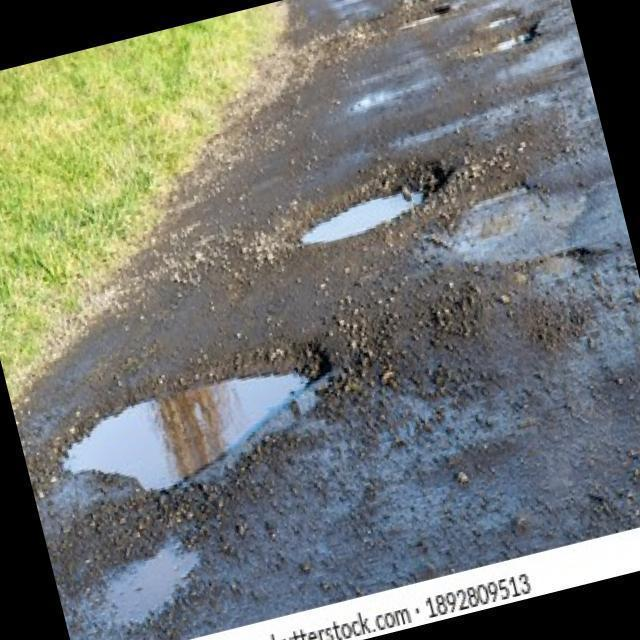pothole: (36, 333, 348, 517), (405, 167, 596, 287), (274, 160, 456, 257), (77, 527, 217, 639), (445, 20, 547, 68), (385, 2, 454, 37), (472, 9, 519, 34)
